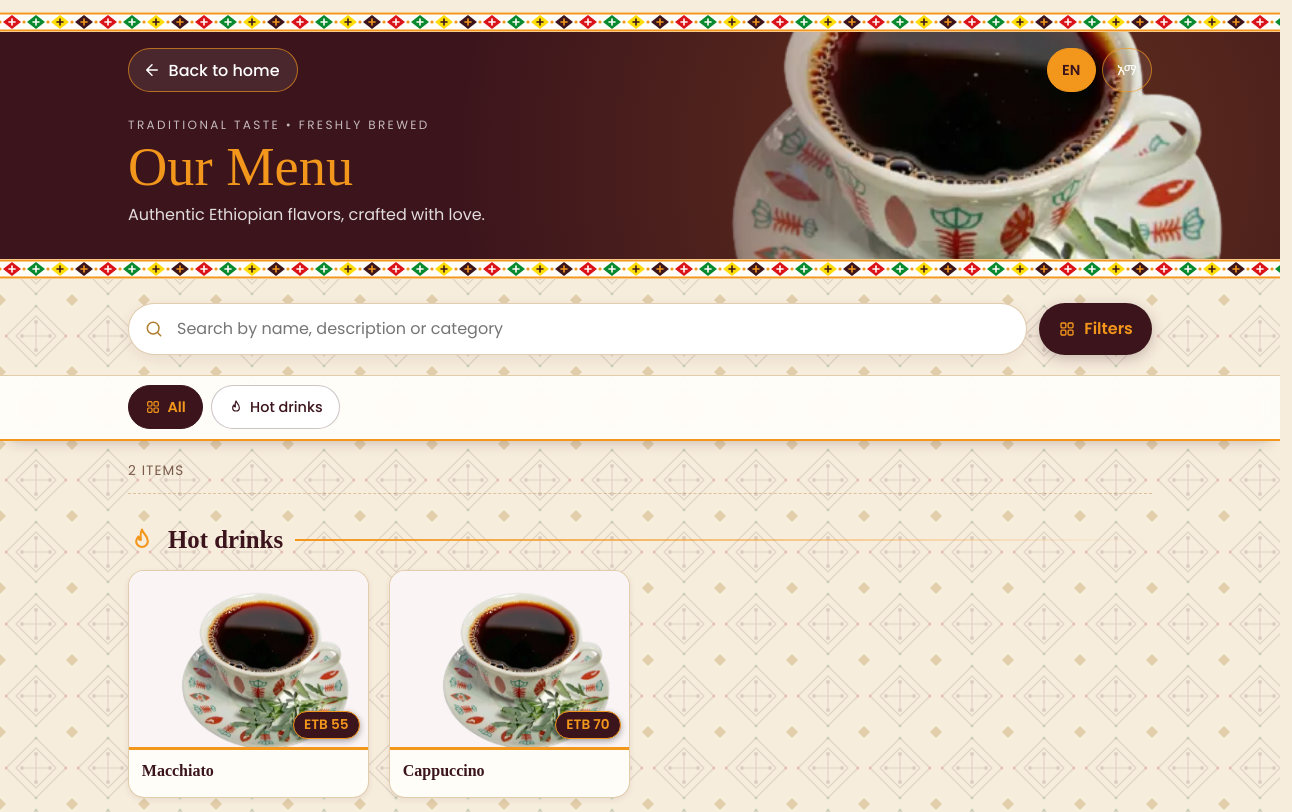
MenuPage language toggle › switches to Amharic and falls back to English where there is no Amharic text
Click the button with aria-label "Amharic" at {"x": 1127, "y": 70}, box [1102,48,1152,92]
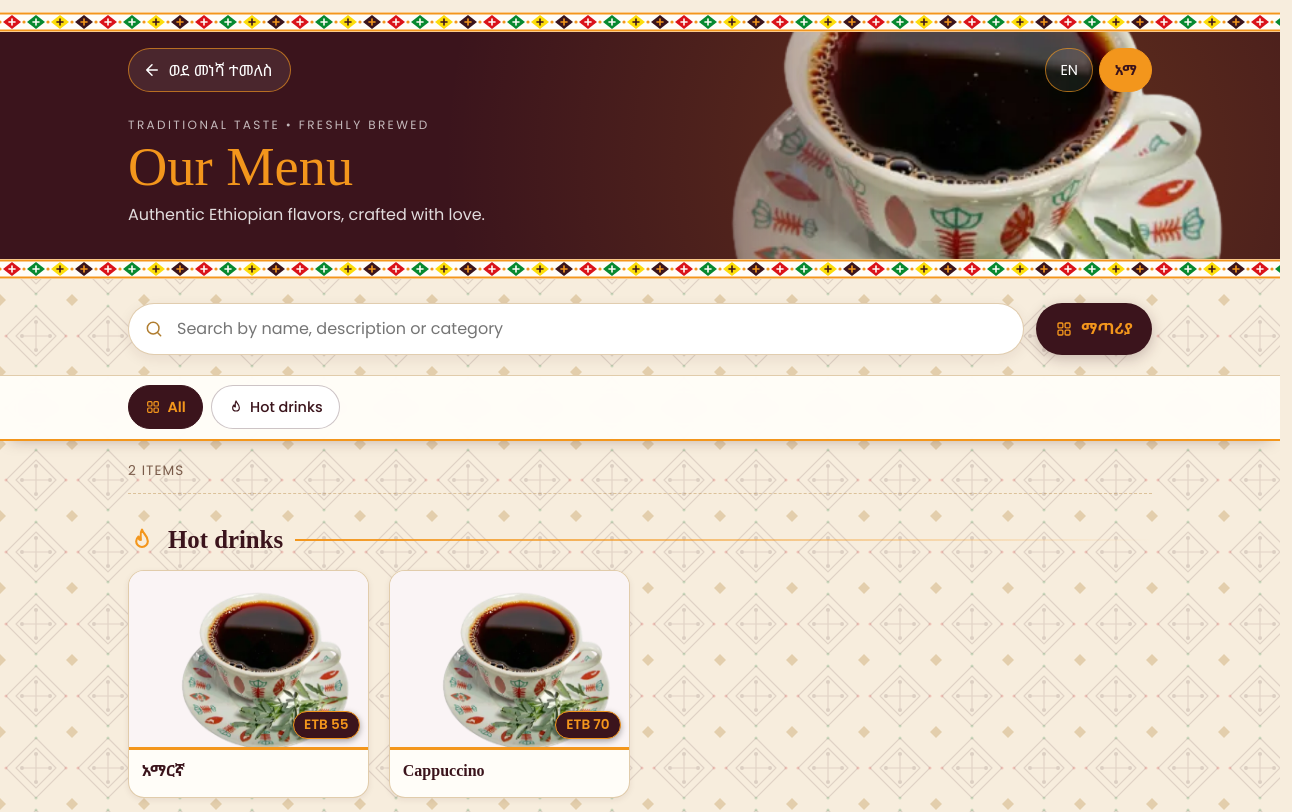
Expected: the heading "Cappuccino" is shown, [403,762,485,780]
Now the heading "Macchiato" is gone
